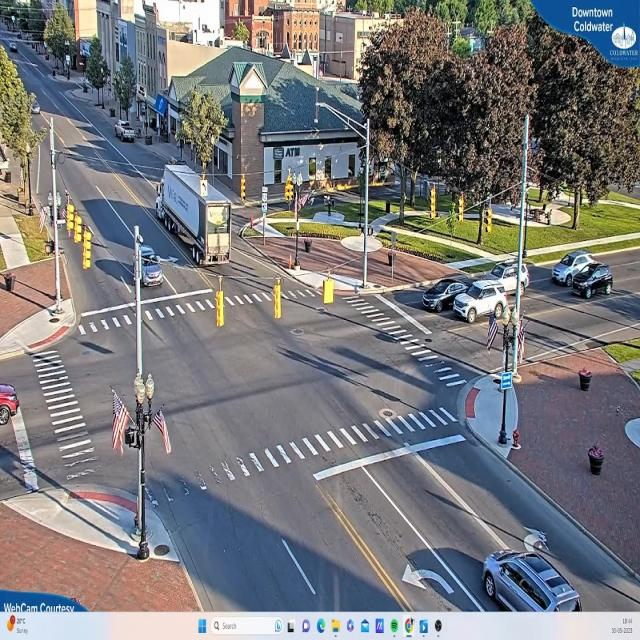car: (485, 549, 583, 612), (452, 284, 512, 324), (422, 278, 476, 312), (477, 264, 532, 296), (572, 264, 614, 300), (553, 252, 597, 286), (1, 384, 22, 424), (117, 122, 137, 144)
truck: (158, 164, 235, 260)
